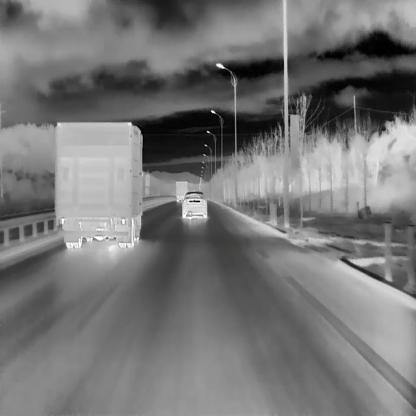car: (180, 191, 206, 219)
truck: (55, 121, 148, 249), (174, 180, 187, 201)
